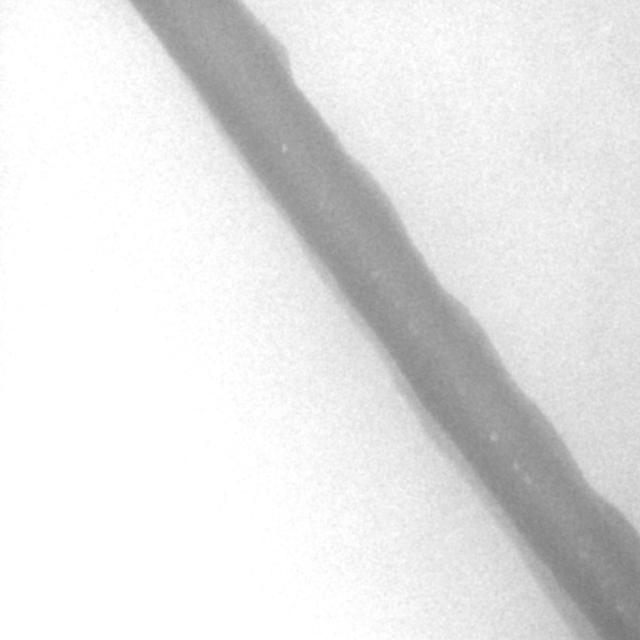air-hole: (579, 550, 591, 561), (458, 387, 467, 398), (490, 431, 498, 441), (525, 476, 532, 485), (618, 604, 624, 613), (394, 302, 400, 310), (282, 143, 286, 153), (372, 271, 378, 277), (319, 202, 324, 208), (408, 322, 413, 328), (514, 463, 519, 469), (414, 329, 417, 335)
